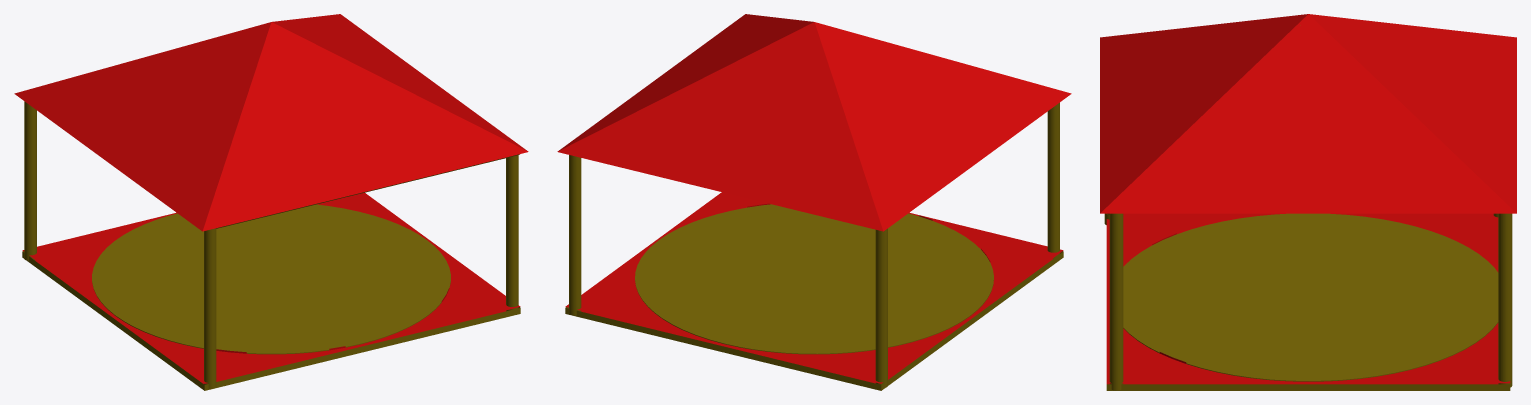
The model's file is arena_xicaras.obj.
3 views of the same model, side by side, from view 1: azimuth 30°, elevation 25°; view 2: azimuth 150°, elevation 25°; view 3: azimuth 270°, elevation 25° (orthographic). The views are drawn at different scales.
Parts seen in each view (by area): view 1: Teacup_ride.002, Teacup_ride; view 2: Teacup_ride.002, Teacup_ride; view 3: Teacup_ride.002, Teacup_ride.
Part boxes in pixels (left/top/right/bottom): Teacup_ride.002: left=14, top=14, right=528, bottom=383; Teacup_ride: left=22, top=101, right=520, bottom=390; Teacup_ride.002: left=557, top=14, right=1071, bottom=383; Teacup_ride: left=565, top=102, right=1063, bottom=390; Teacup_ride.002: left=1100, top=14, right=1516, bottom=384; Teacup_ride: left=1104, top=25, right=1512, bottom=390.
Bounding box in the file's own units: 392 × 302 × 392.
